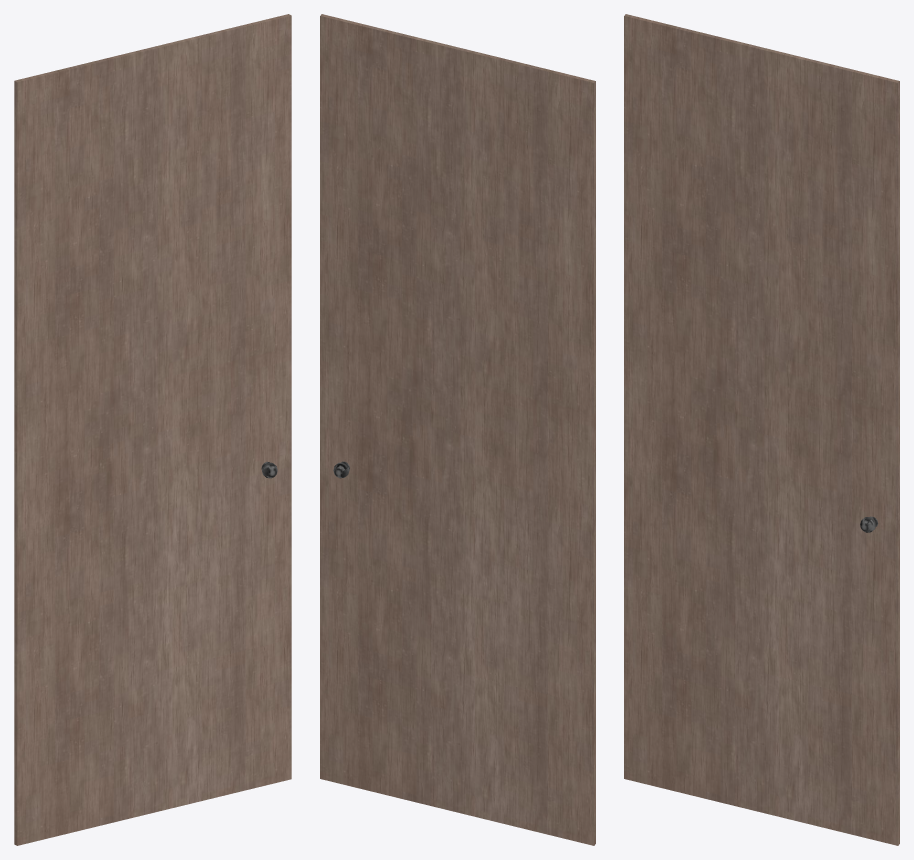
Rendered from door2.glb.
3 renders of one model, left to right at view 1: azimuth 30°, elevation 25°; view 2: azimuth 150°, elevation 25°; view 3: azimuth 330°, elevation 25°, orthographic.
Visible parts, largest first — view 1: frl_apartment_door_02; view 2: frl_apartment_door_02; view 3: frl_apartment_door_02.
Part boxes in pixels (x1=…): frl_apartment_door_02: x1=14, y1=14, x2=291, y2=845; frl_apartment_door_02: x1=320, y1=14, x2=595, y2=845; frl_apartment_door_02: x1=624, y1=14, x2=899, y2=845.
Size of the model in its own units: 0.9174 by 2.43 by 0.1032.
Materials: 2 (2 with a texture image).
